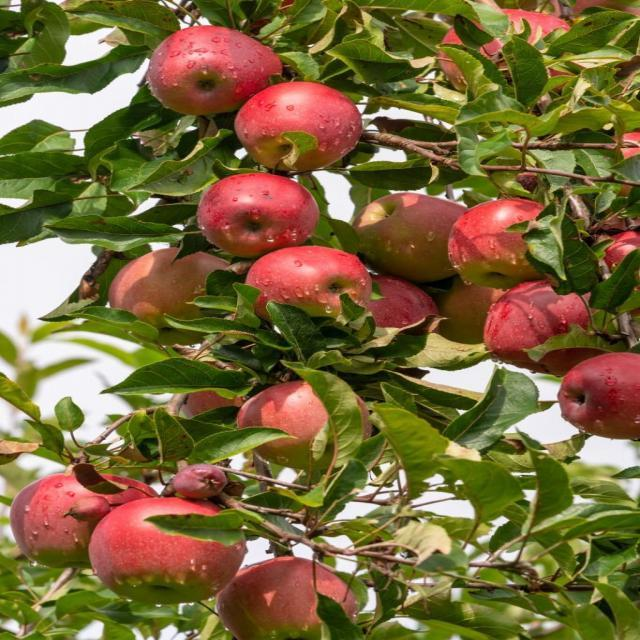Red Apple: (90, 494, 248, 607), (14, 471, 165, 572), (477, 280, 607, 371), (442, 12, 579, 93), (115, 243, 239, 330), (147, 32, 280, 109), (450, 203, 572, 283), (244, 82, 360, 164), (353, 197, 474, 274), (226, 558, 349, 633), (239, 384, 361, 459), (241, 250, 364, 323), (208, 175, 319, 244), (431, 274, 531, 345), (354, 275, 444, 342), (566, 353, 640, 412), (181, 385, 246, 429), (600, 229, 640, 287), (607, 131, 640, 190), (175, 467, 230, 500)
